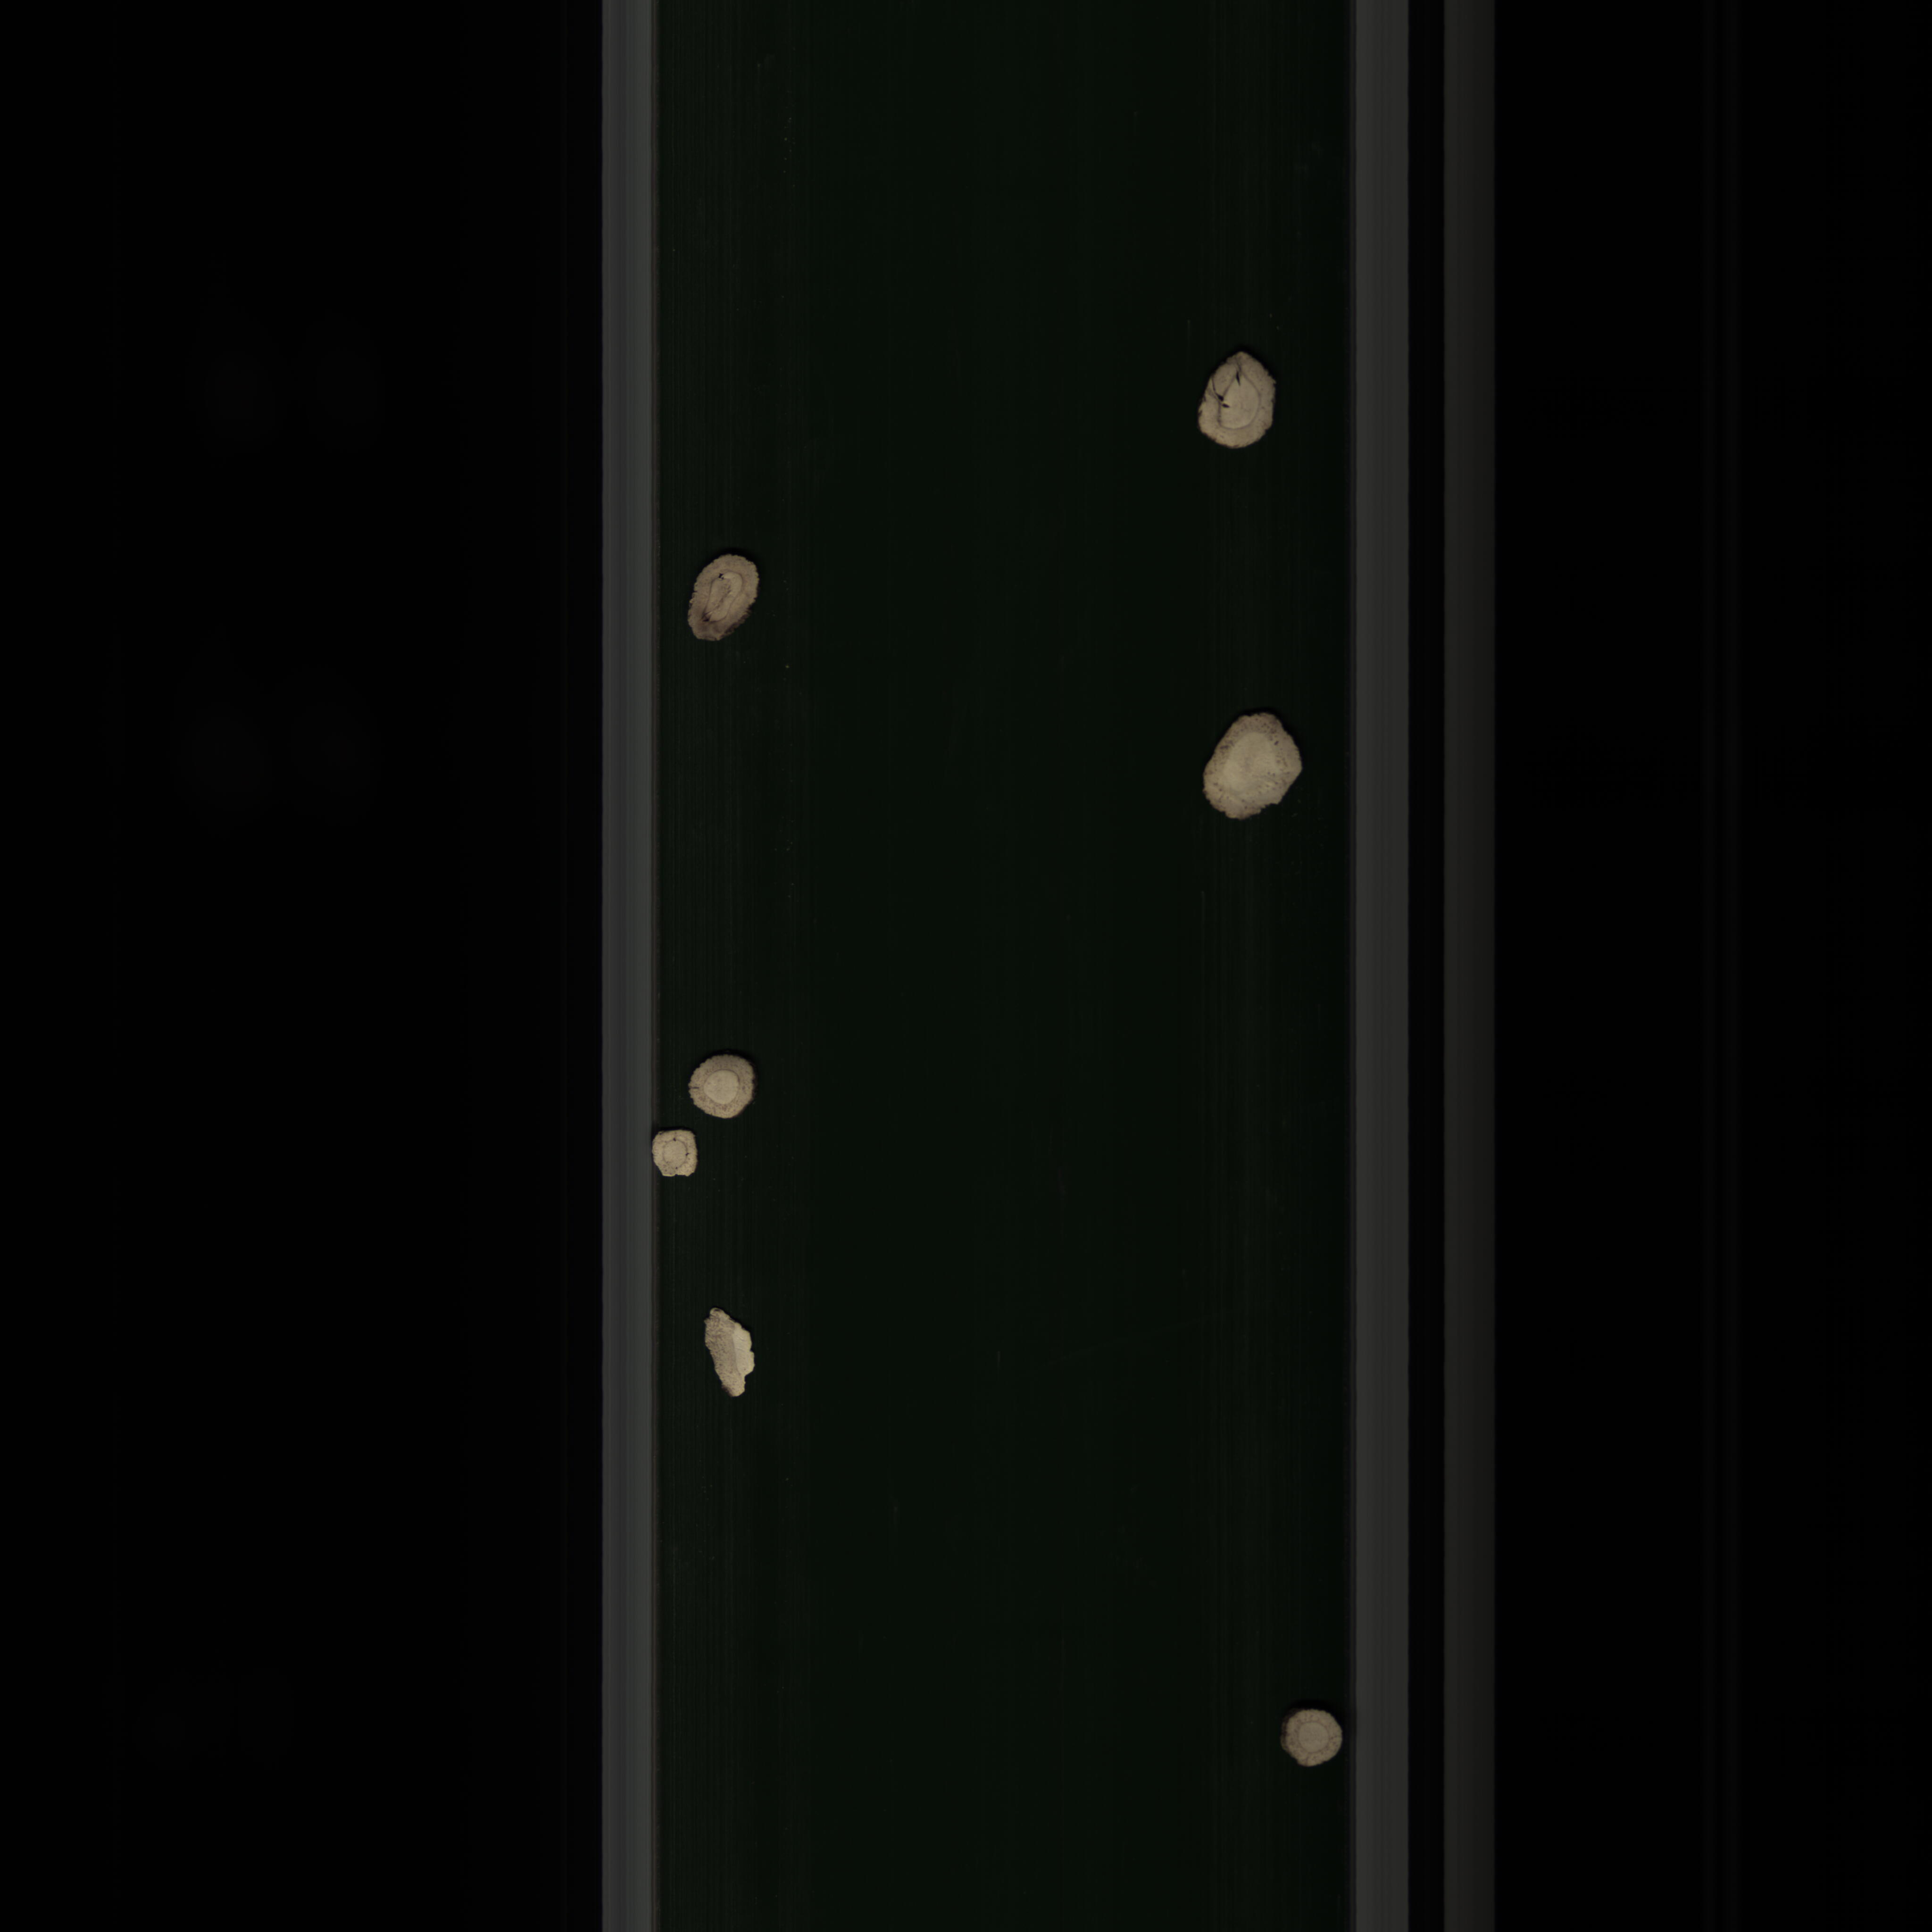debris: (694, 1299, 770, 1403)
hole: (1194, 340, 1292, 464)
moldy: (679, 552, 768, 649)
